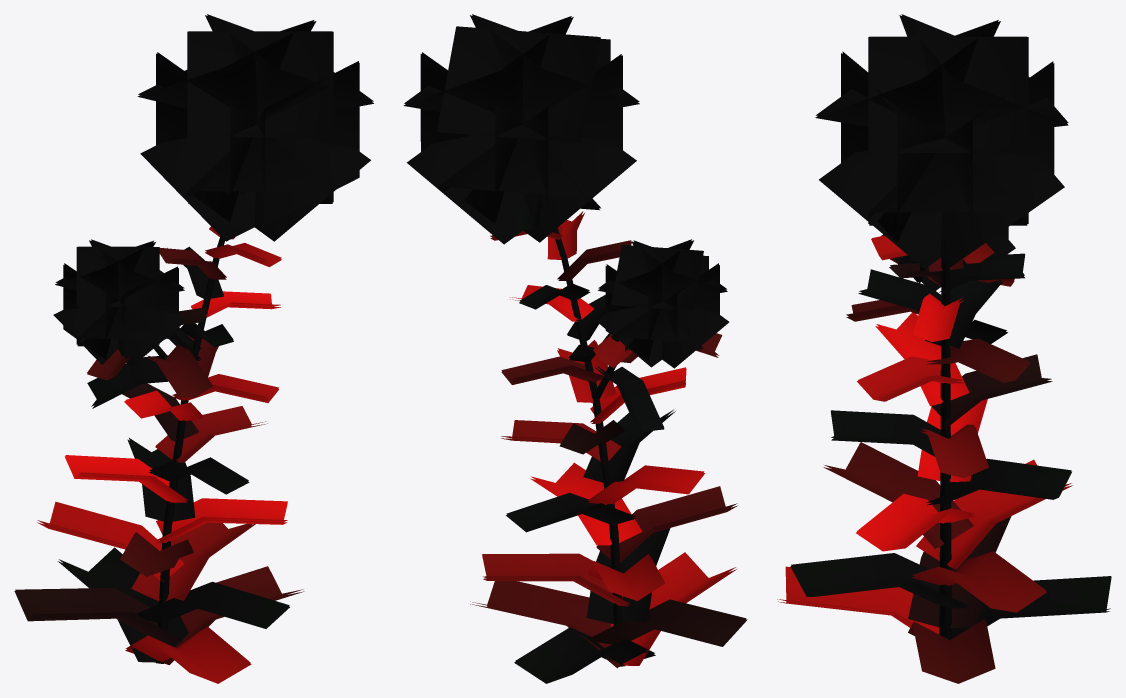
File: Flower04_AFS_high.FBX
3 renders of one model, left to right at view 1: azimuth 30°, elevation 25°; view 2: azimuth 150°, elevation 25°; view 3: azimuth 270°, elevation 25°, orthographic. The views are drawn at different scales.
Visible parts, largest first — view 1: Flower04_AFS_high; view 2: Flower04_AFS_high; view 3: Flower04_AFS_high.
Part boxes in pixels (left/top/right/bottom): Flower04_AFS_high: left=14, top=14, right=373, bottom=683; Flower04_AFS_high: left=403, top=14, right=747, bottom=683; Flower04_AFS_high: left=777, top=14, right=1111, bottom=683.
Bounding box in the file's own units: 0.31 × 0.5707 × 0.2631.
